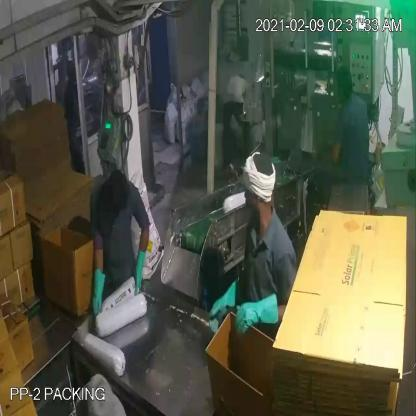glove: (228, 285, 283, 342), (205, 258, 244, 333), (84, 259, 113, 324), (128, 233, 154, 301)
